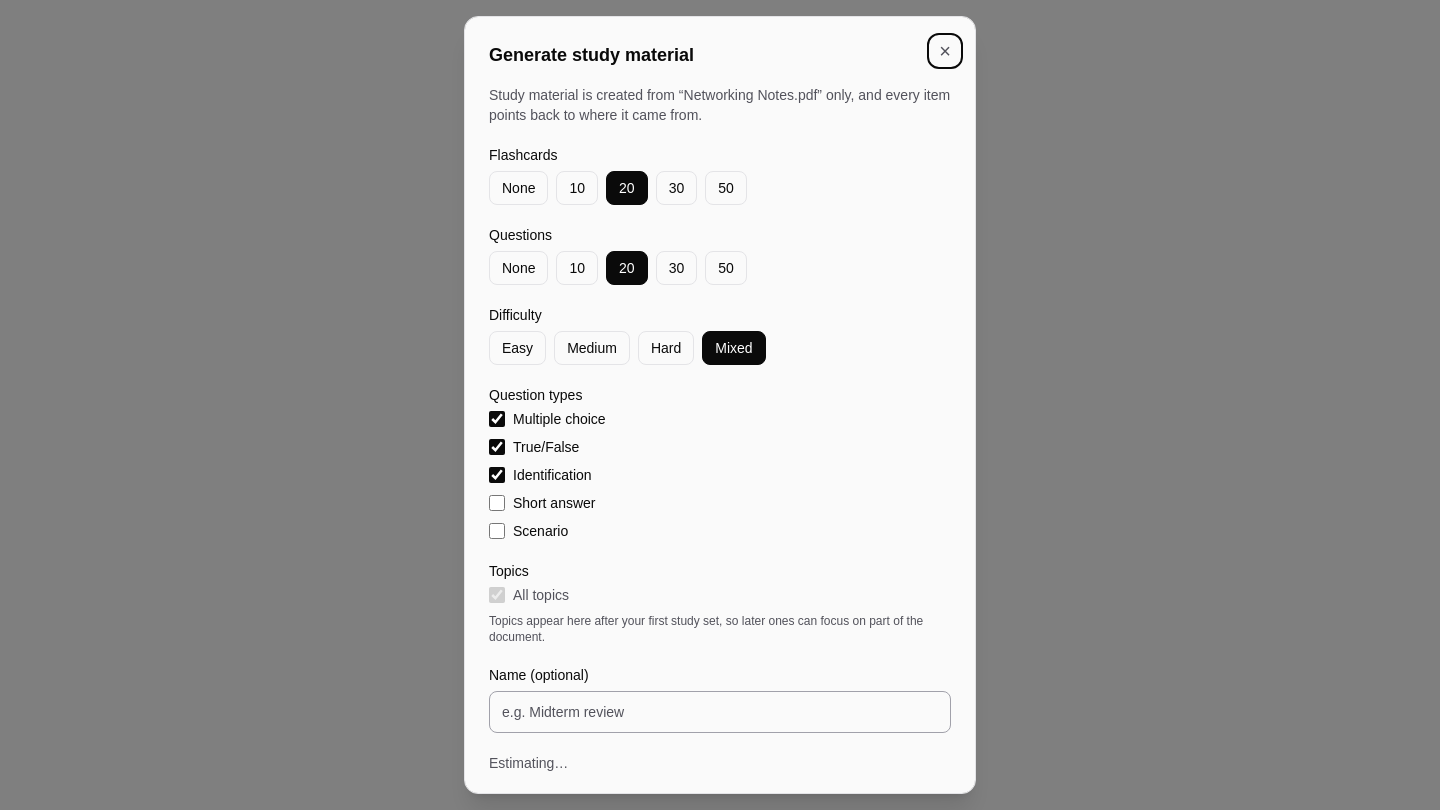
GenerateModal › only the latest estimate response is shown when settings change quickly (race safety)
The width and height of the screenshot is (1440, 810).
Click the button "Easy". click: (518, 348)
box: [489, 331, 546, 365]
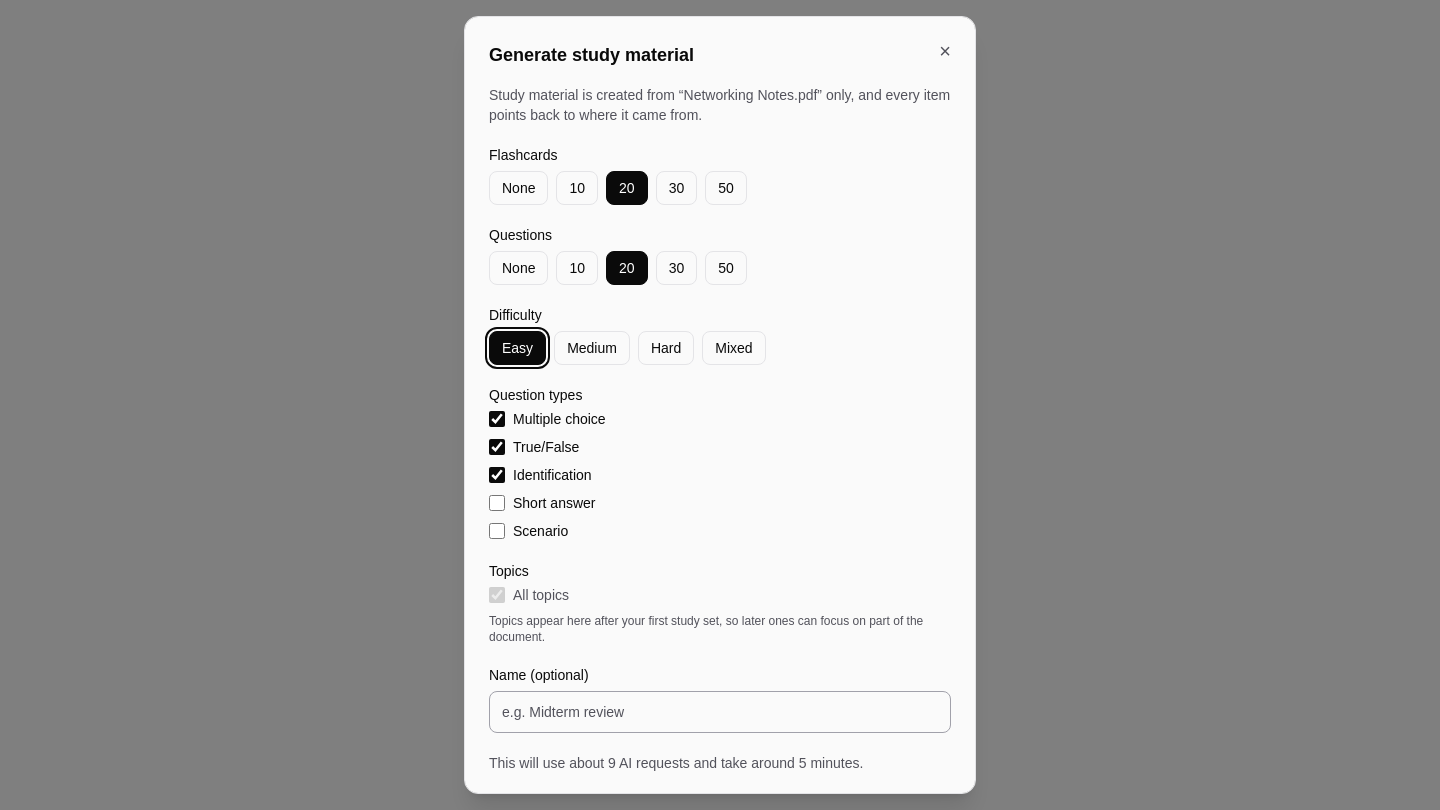
Expected: the text "This will use about 9 AI requests and take around 5 minutes." is shown, [489, 755, 863, 771]
